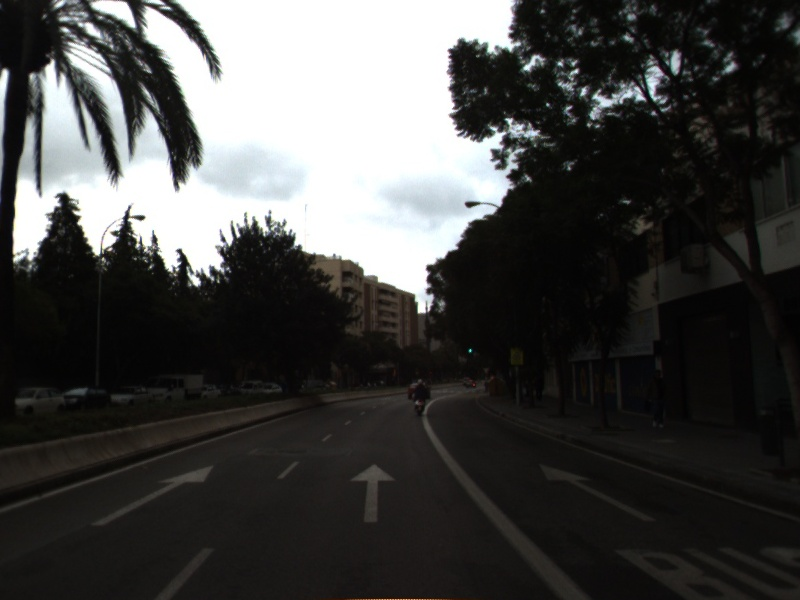STRAIGHT: (87, 463, 218, 529), (537, 461, 659, 524), (347, 462, 399, 525)
